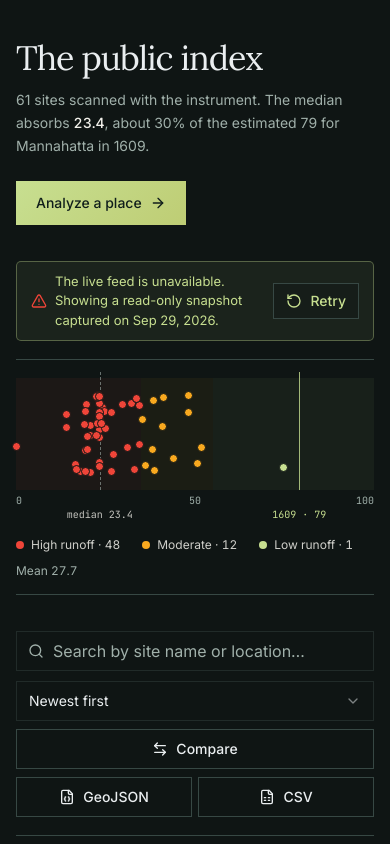
public index outage › shows the dated fallback and replaces it after a successful retry
Check: the text "Showing a read-only snapshot captured on" is shown, box [55, 273, 242, 328]
Click the button "Retry".
click(316, 301)  # box [273, 283, 359, 319]
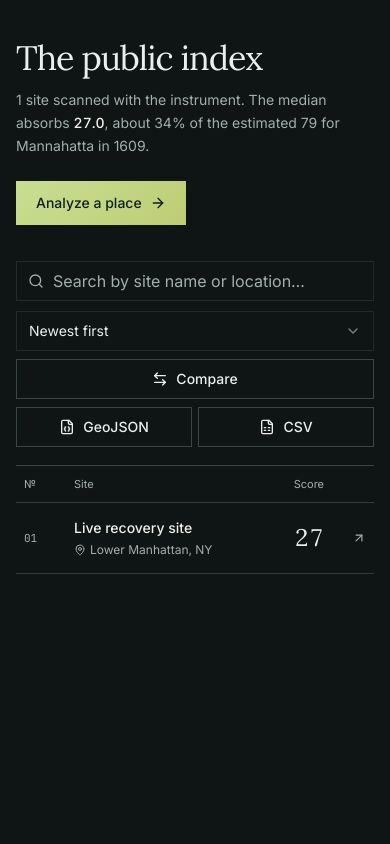
Check: the heading "Live recovery site" is shown, box [74, 520, 192, 536]
Check: the text "Showing a read-only snapshot" is gone
